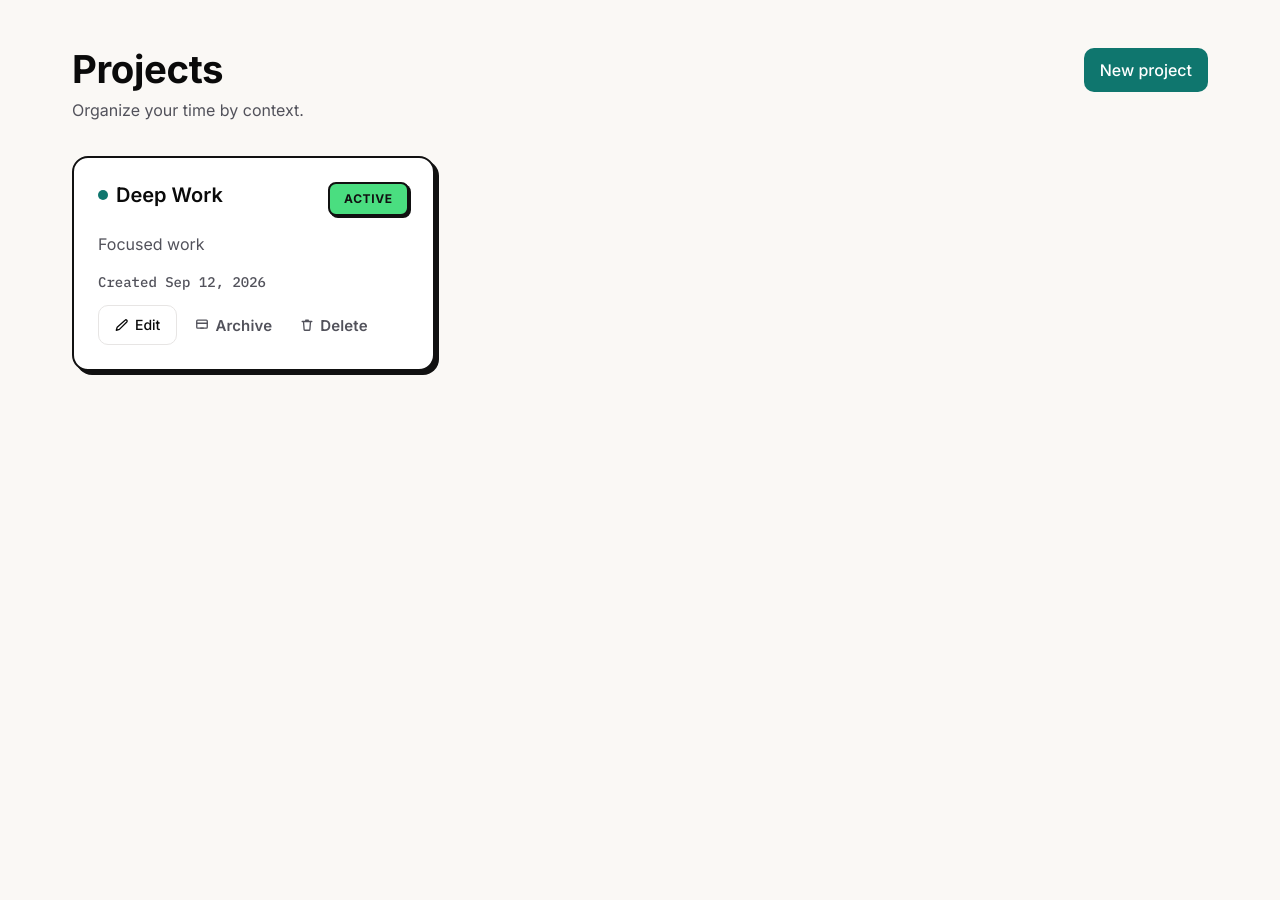
Test: ProjectList › should open the delete dialog from a card
Click the button with aria-label "Delete Deep Work" at (334, 325), box top-left (290, 305), bottom-right (378, 345)
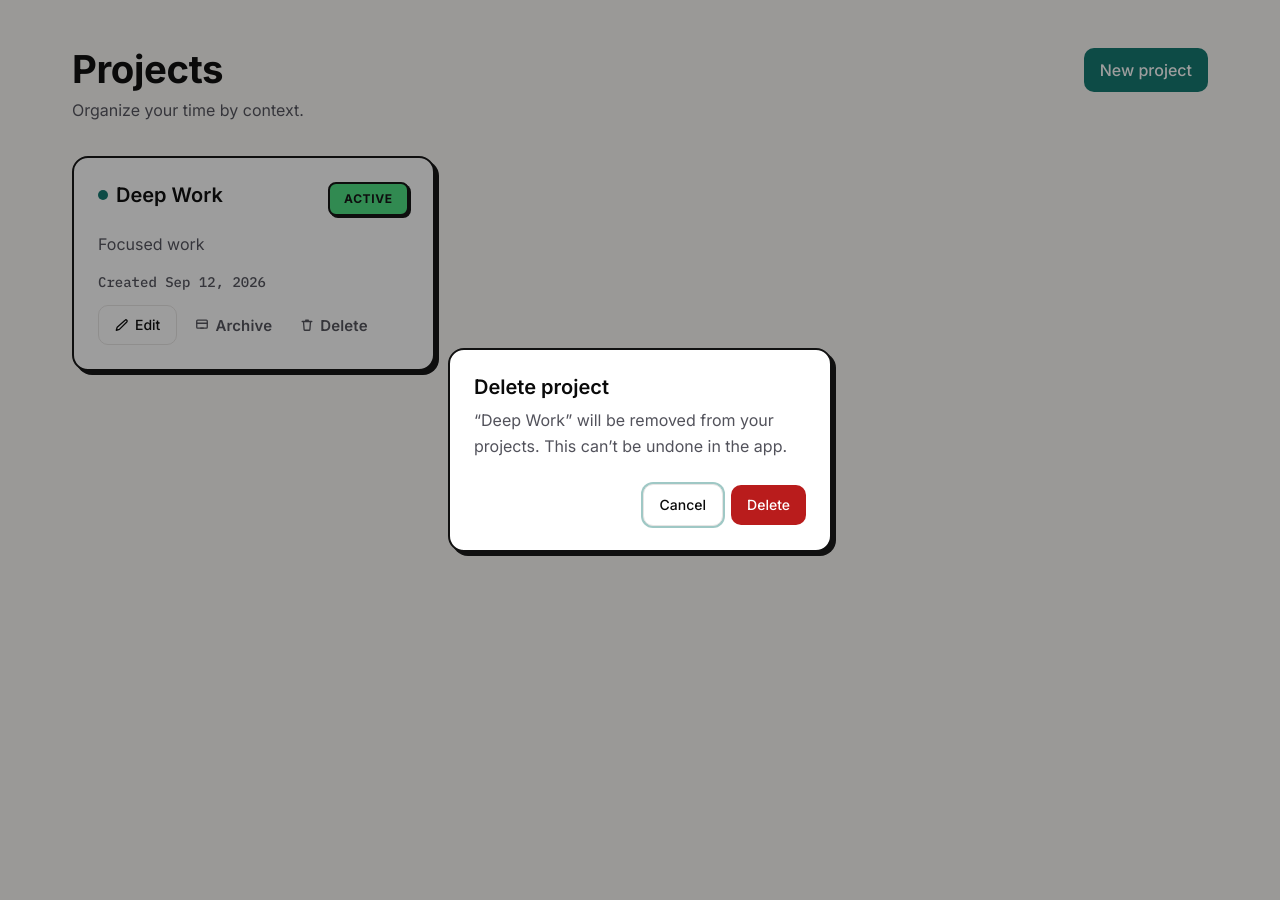
Expected: the dialog is shown, top-left (448, 348), bottom-right (832, 552)
Expected: the heading "Delete project" is shown, top-left (474, 375), bottom-right (609, 399)
